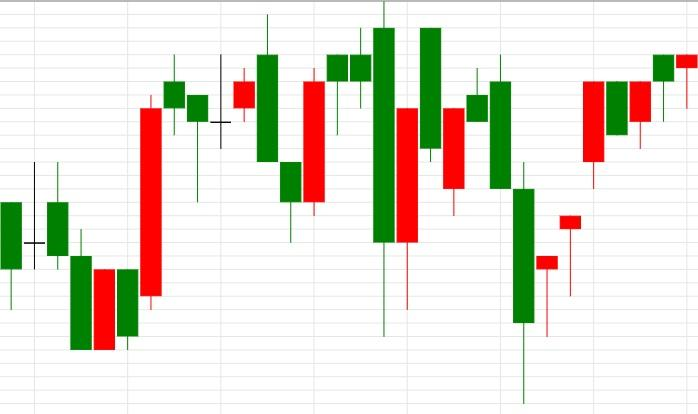bearish_engulfing_fall: (187, 14, 279, 203)
hammer_rise: (490, 53, 557, 404)
hanging_man_fall: (512, 55, 698, 404), (93, 54, 209, 350)
three_white_soldiers_rise: (489, 54, 606, 404)
